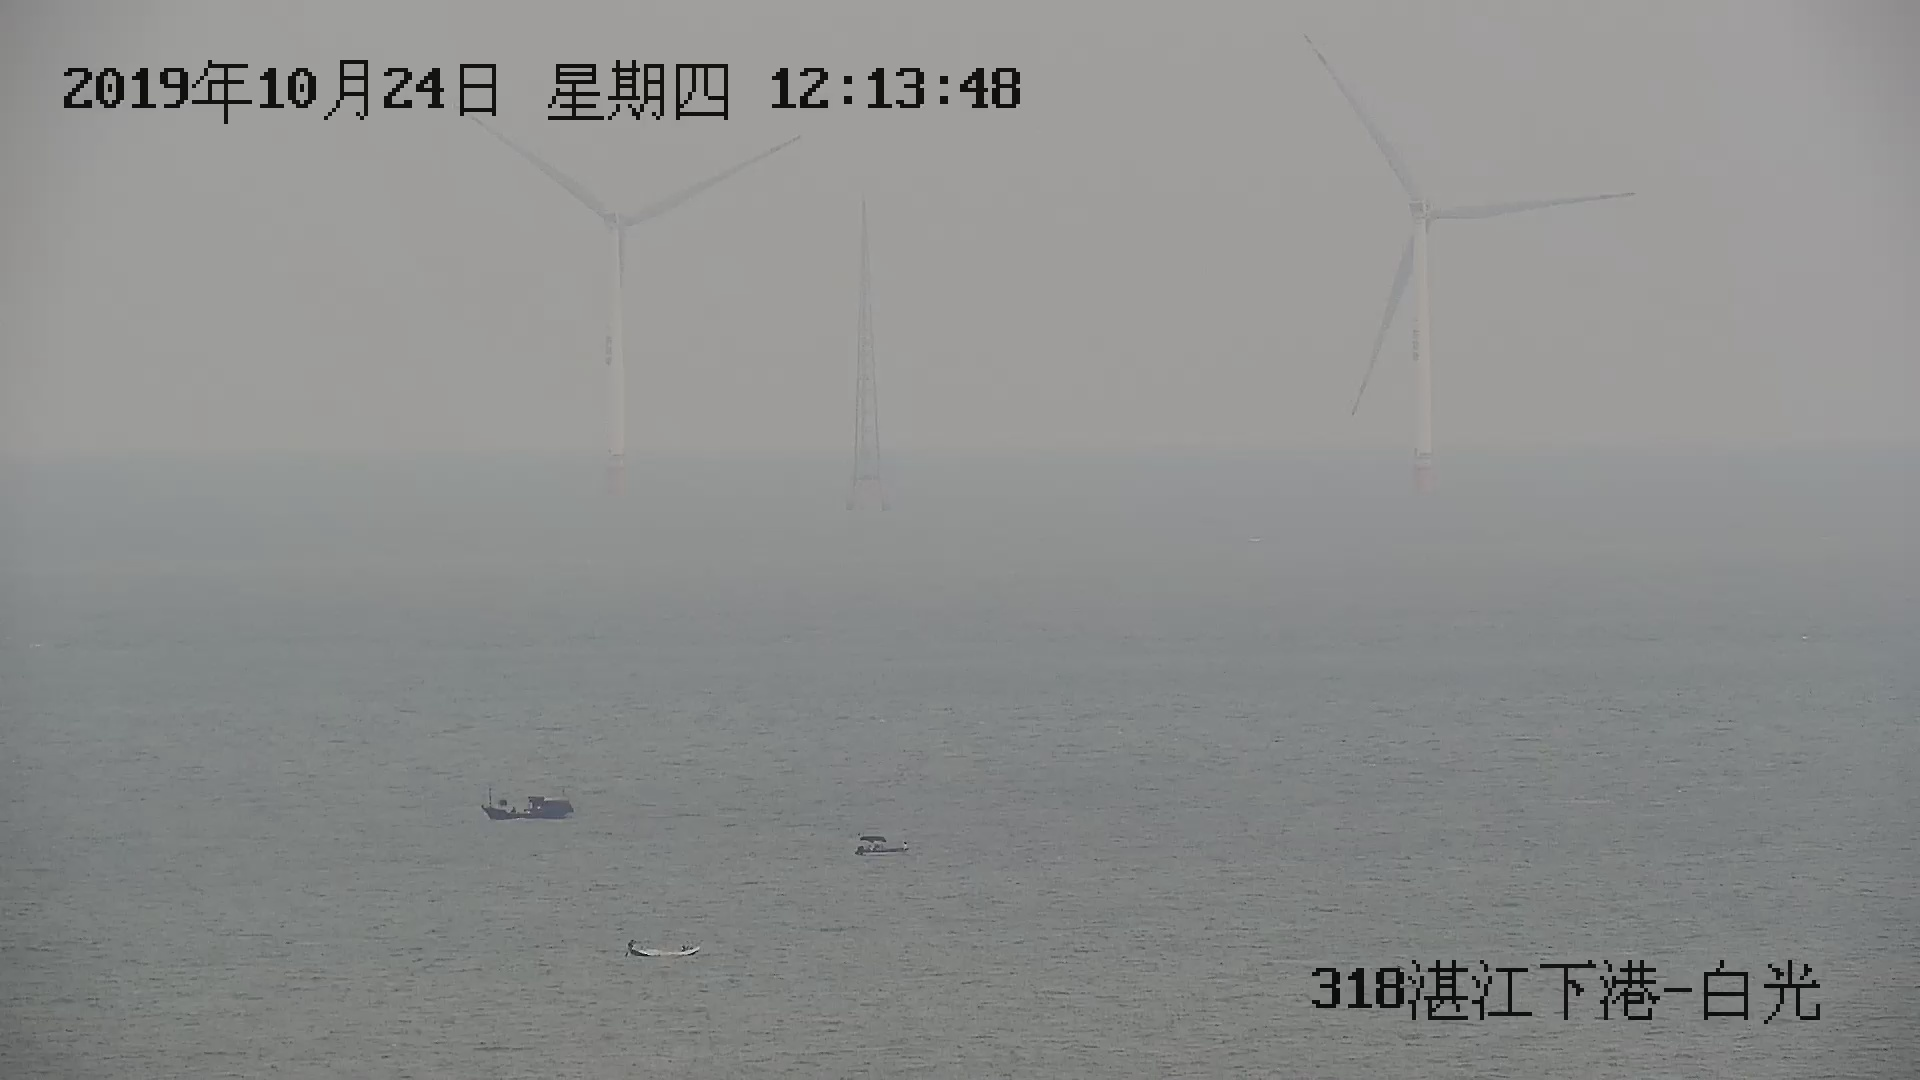ship: (481, 795, 574, 823), (624, 940, 709, 961), (855, 829, 909, 858)
